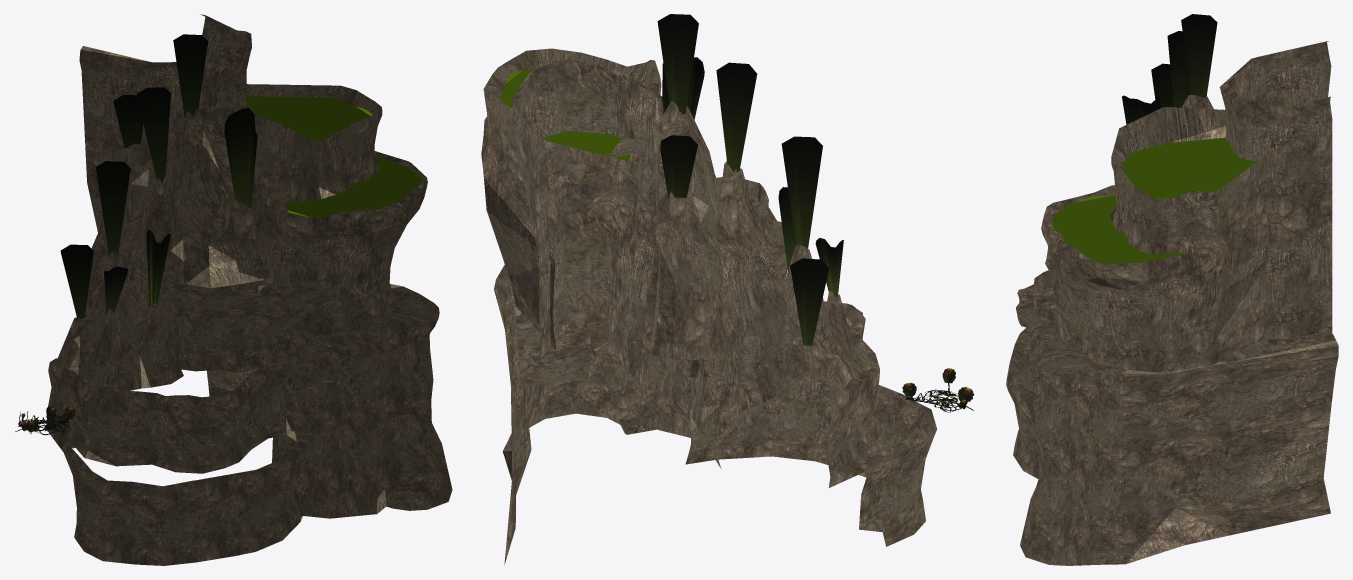
File: stg610_12.obj
The picture shows the model from 3 angles, left to right: view 1: azimuth 30°, elevation 25°; view 2: azimuth 150°, elevation 25°; view 3: azimuth 270°, elevation 25°; orthographic projection. The views are drawn at different scales.
Parts seen in each view (by area): view 1: polygon3, polygon0, polygon1, polygon8, polygon6, polygon9, polygon2, polygon4, polygon5, polygon7; view 2: polygon9, polygon1, polygon3, polygon0, polygon6, polygon8, polygon2, polygon7; view 3: polygon0, polygon8, polygon9, polygon2, polygon6, polygon3, polygon5, polygon4.
Part boxes in pixels (x1,y1,x2,y2): polygon3: [47, 268, 341, 565]; polygon0: [207, 284, 452, 518]; polygon1: [56, 109, 270, 390]; polygon8: [175, 84, 427, 335]; polygon6: [60, 34, 258, 319]; polygon9: [79, 14, 251, 290]; polygon2: [238, 96, 422, 219]; polygon4: [284, 342, 381, 388]; polygon5: [178, 407, 236, 444]; polygon7: [15, 406, 75, 437]; polygon9: [512, 59, 663, 403]; polygon1: [640, 101, 869, 410]; polygon3: [682, 177, 936, 546]; polygon0: [494, 264, 721, 565]; polygon6: [657, 14, 843, 345]; polygon8: [481, 48, 661, 349]; polygon2: [499, 69, 630, 160]; polygon7: [902, 368, 974, 412]; polygon0: [1020, 319, 1338, 565]; polygon8: [1041, 107, 1268, 371]; polygon9: [1219, 41, 1332, 338]; polygon2: [1052, 137, 1255, 263]; polygon6: [1122, 14, 1217, 124]; polygon3: [1006, 245, 1056, 478]; polygon5: [1016, 281, 1054, 328]; polygon4: [1027, 321, 1050, 381].
Size of the model in its own units: 1413 by 1452 by 972.
4 materials, 4 textured.
